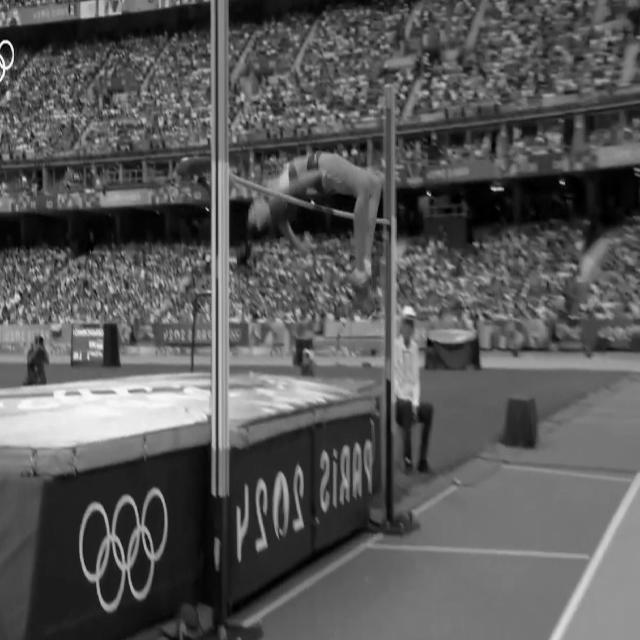jump: (242, 148, 406, 314)
